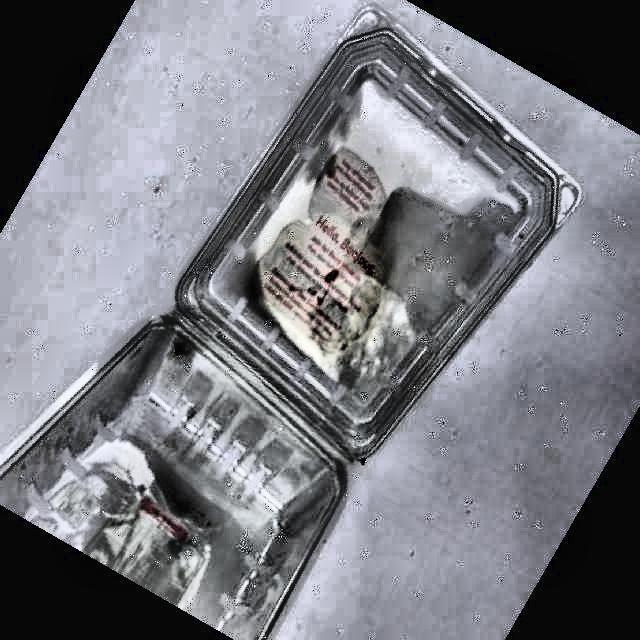plastic: (0, 11, 579, 640)
